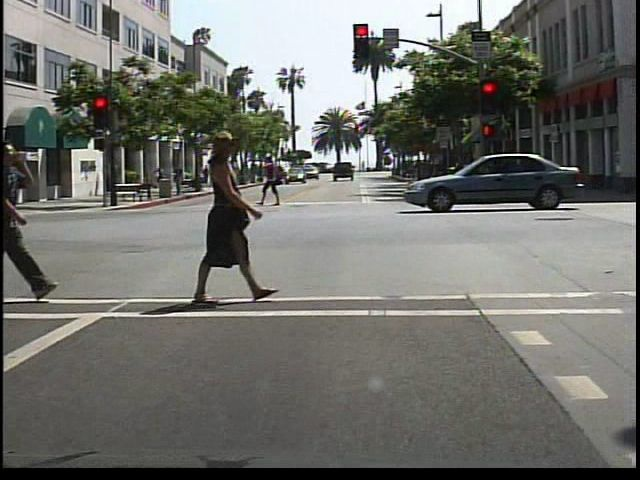person: (192, 132, 287, 309), (3, 140, 46, 307), (262, 156, 290, 209), (171, 159, 189, 197), (152, 166, 170, 192)
